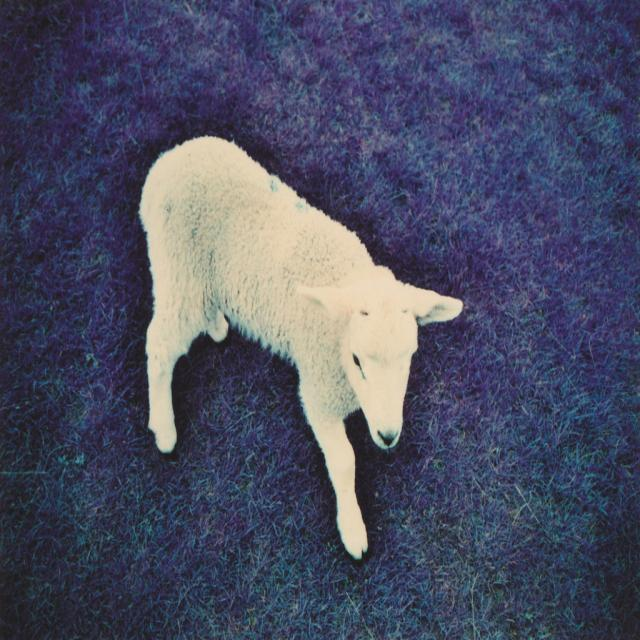Sheep: (129, 123, 450, 571)
